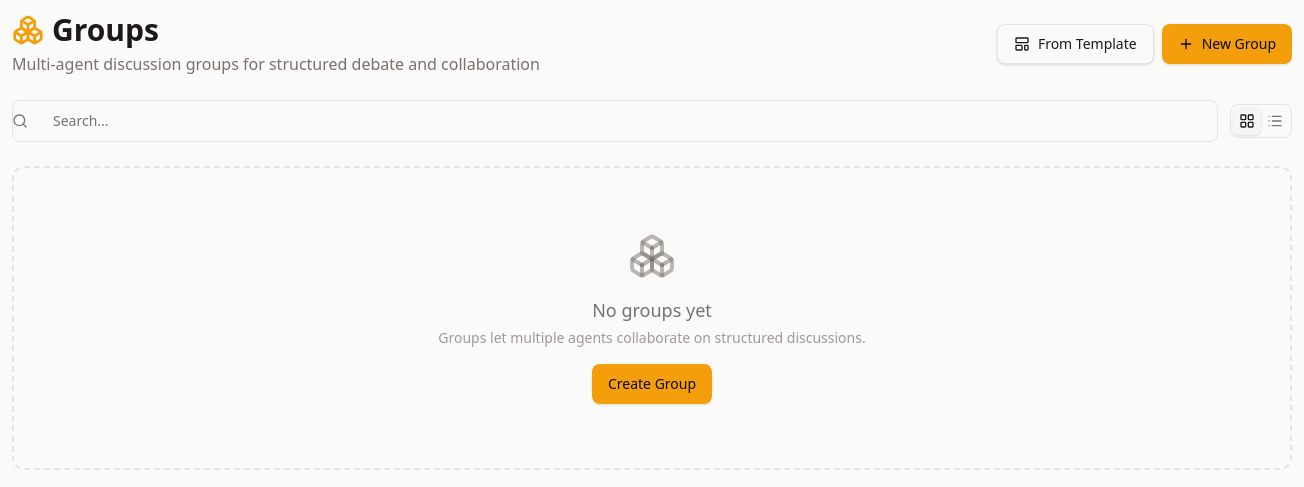
GroupsPage › shows 'no results' empty state when search has no matches
The image size is (1304, 487).
Step 1. Type "nonexistent" into the field with test id "group-search" → (615, 121), box 12,100 -> 1218,142
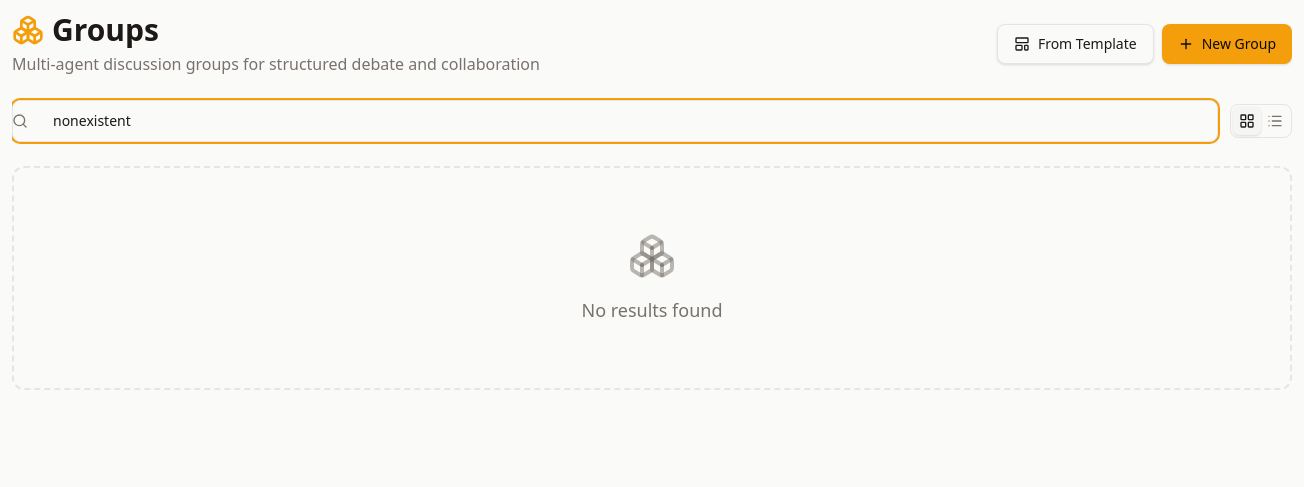
Expected: the button "Create Group" is gone
